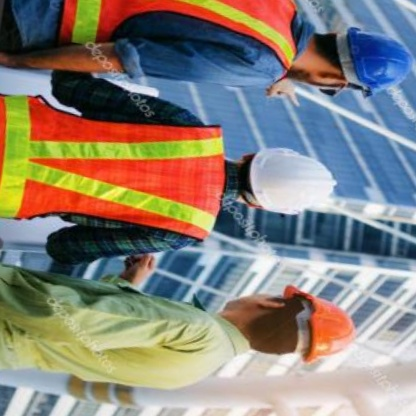blue: (335, 23, 416, 107)
vest: (0, 76, 238, 257), (47, 0, 313, 102)
white: (239, 140, 347, 228)
